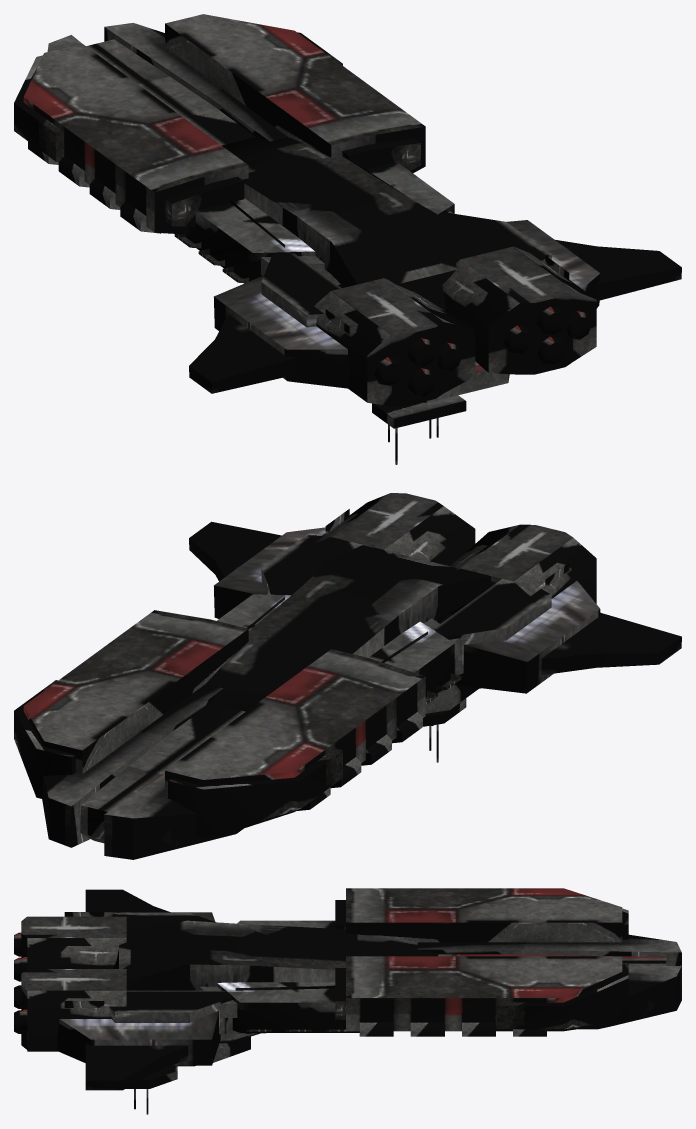
The model's file is LightCruiser.fbx.
3 views of the same model, one above another, from view 1: azimuth 30°, elevation 25°; view 2: azimuth 150°, elevation 25°; view 3: azimuth 270°, elevation 25° (orthographic). The views are drawn at different scales.
Parts seen in each view (by area): view 1: LightCruiser; view 2: LightCruiser; view 3: LightCruiser.
Boxes of the visible parts, <box> form: LightCruiser: <box>14,14,681,464</box>; LightCruiser: <box>14,493,681,859</box>; LightCruiser: <box>14,888,681,1114</box>.
Size of the model in its own units: 299 by 128 by 443.
1 material, 1 textured.
